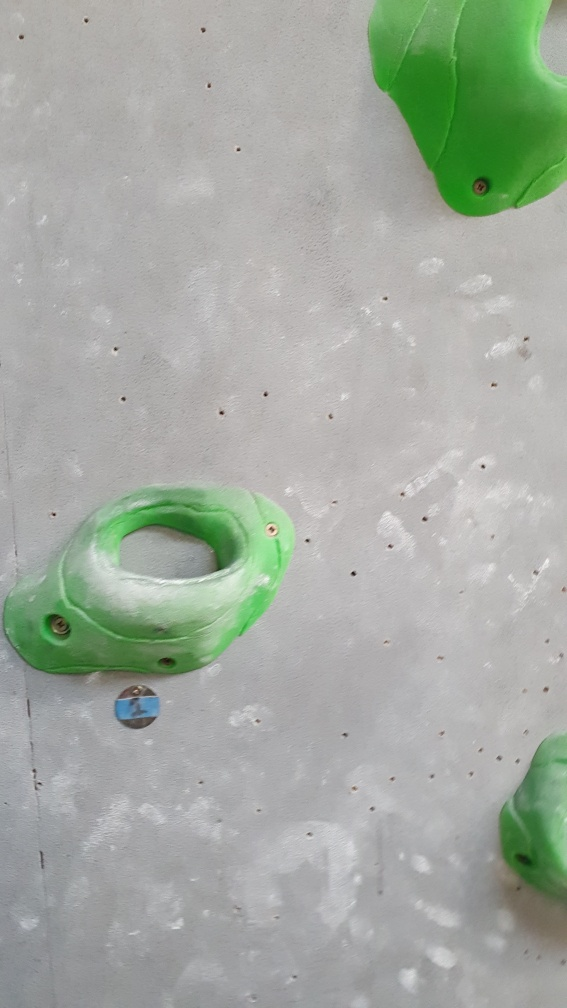Hand Start: (109, 678, 164, 735)
Pocket: (1, 471, 297, 688)
